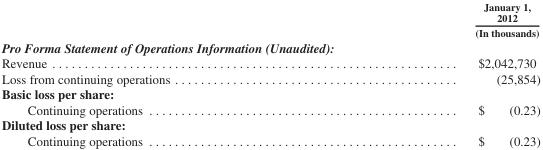table: (0, 0, 539, 147)
table column: (0, 0, 321, 147), (321, 0, 539, 147)
table column header: (0, 0, 539, 39)
table projected row header: (0, 85, 539, 101), (0, 116, 539, 132), (0, 39, 539, 54)
table row: (0, 0, 539, 39), (0, 54, 539, 70), (0, 85, 539, 101), (0, 116, 539, 132), (0, 39, 539, 54), (0, 70, 539, 85), (0, 101, 539, 116), (0, 132, 539, 147)
